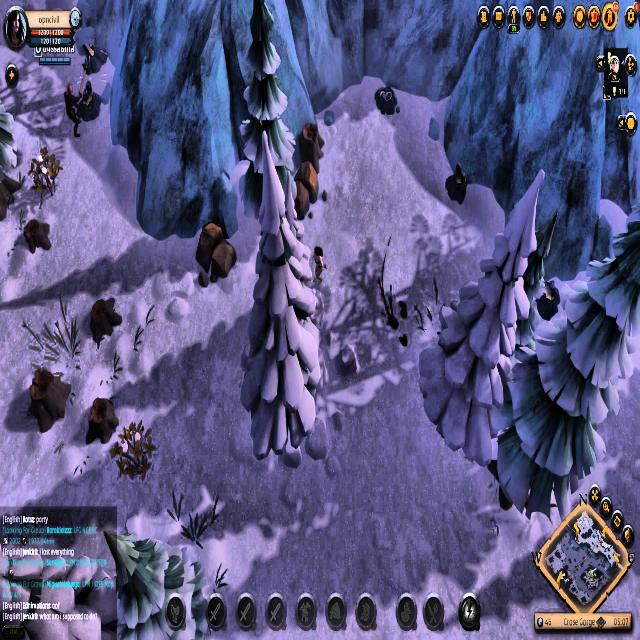copper_ore: (437, 164, 479, 209)
cotton: (108, 423, 164, 480), (26, 149, 64, 199)
limestone: (195, 219, 240, 291)
